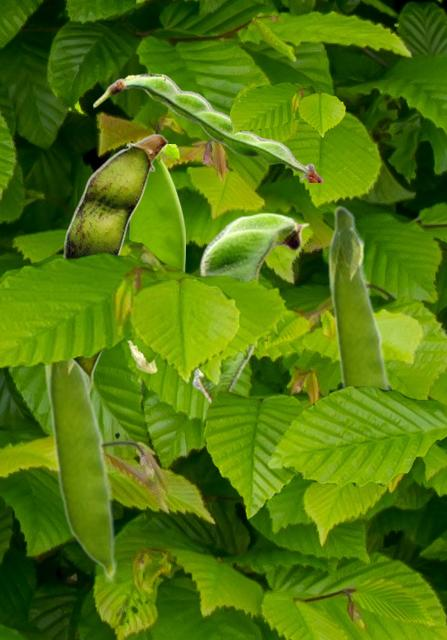pea: (61, 133, 167, 393), (93, 73, 323, 181), (191, 212, 309, 403), (43, 361, 117, 582), (125, 144, 184, 372), (327, 204, 392, 388)
